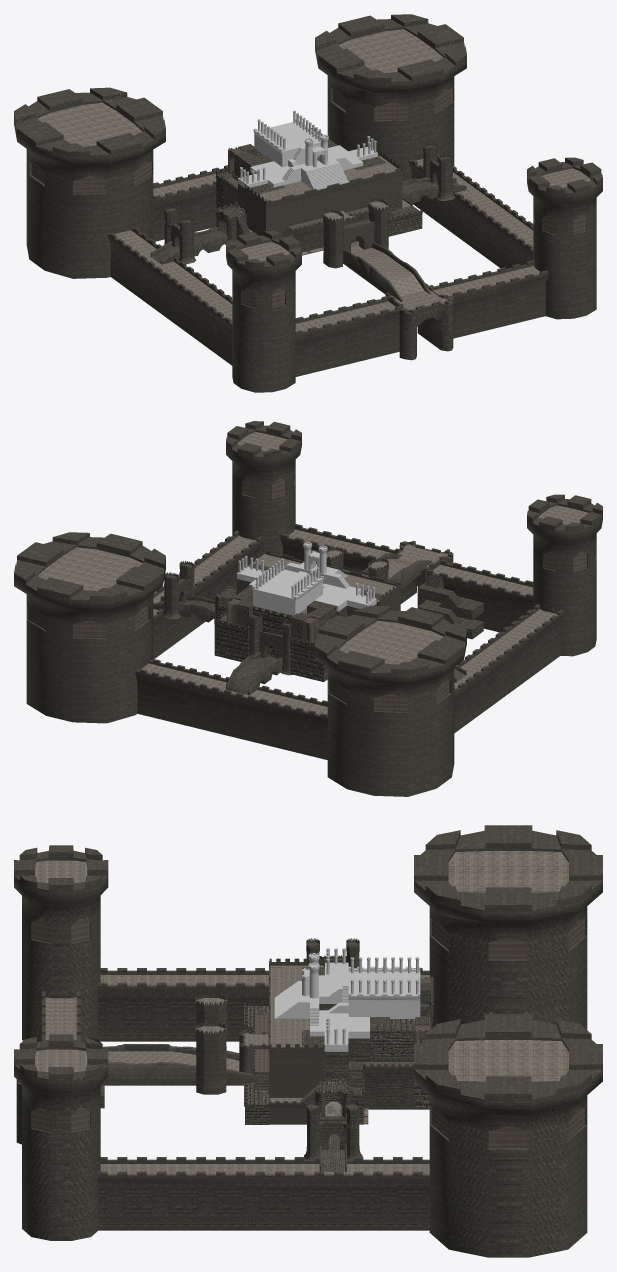
The model's file is MaouSiro.FBX.
The picture shows the model from 3 angles, top to bottom: view 1: azimuth 30°, elevation 25°; view 2: azimuth 150°, elevation 25°; view 3: azimuth 270°, elevation 25°; orthographic projection. The views are drawn at different scales.
Parts seen in each view (by area): view 1: Castle; view 2: Castle; view 3: Castle.
Boxes of the visible parts, x1,y1,x2,y2 form: Castle: (14,14,602,392); Castle: (14,421,602,796); Castle: (14,825,602,1257).
Size of the model in its own units: 10369 by 3121 by 9599.
